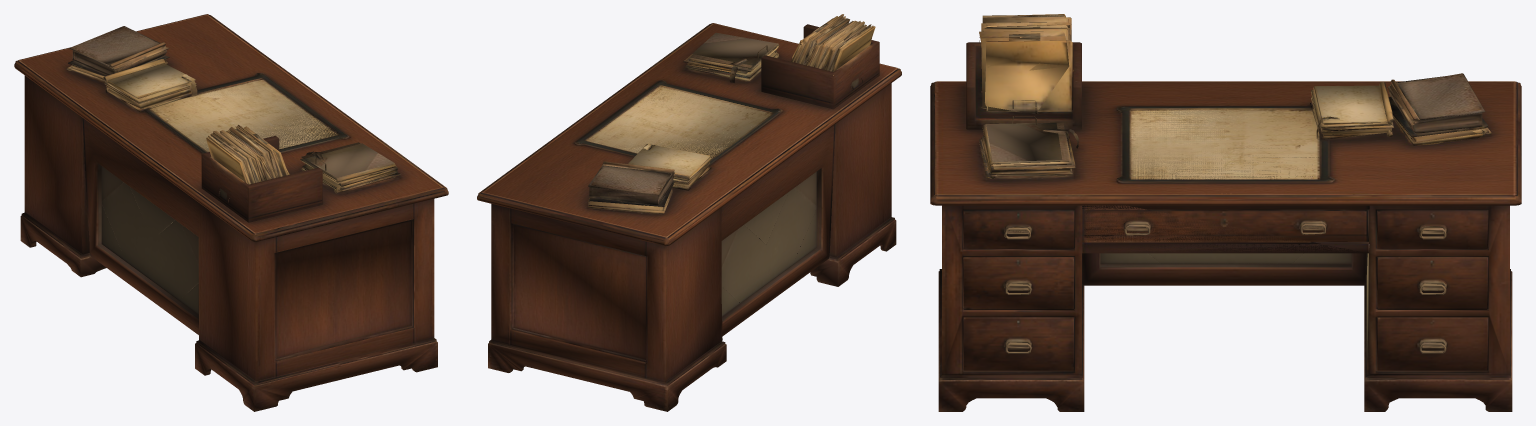
3 renders of one model, left to right at view 1: azimuth 30°, elevation 25°; view 2: azimuth 150°, elevation 25°; view 3: azimuth 270°, elevation 25°, orthographic. The views are drawn at different scales.
Parts seen in each view (by area): view 1: tripo_node_f6cd1ad5-e30e-4b6a-9f87-fdc6d8d455e3; view 2: tripo_node_f6cd1ad5-e30e-4b6a-9f87-fdc6d8d455e3; view 3: tripo_node_f6cd1ad5-e30e-4b6a-9f87-fdc6d8d455e3.
Boxes of the visible parts, x1,y1,x2,y2 form: tripo_node_f6cd1ad5-e30e-4b6a-9f87-fdc6d8d455e3: (14, 14, 448, 411); tripo_node_f6cd1ad5-e30e-4b6a-9f87-fdc6d8d455e3: (477, 14, 901, 411); tripo_node_f6cd1ad5-e30e-4b6a-9f87-fdc6d8d455e3: (930, 14, 1521, 411).
Size of the model in its own units: 0.4707 by 0.5488 by 0.998.
1 material, 1 textured.
